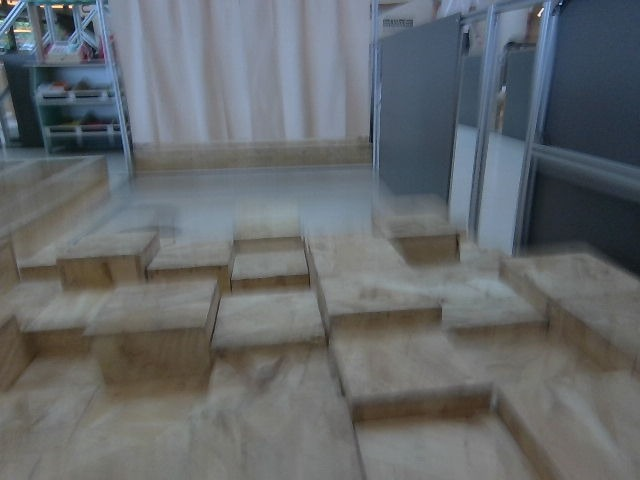curtain: (122, 0, 371, 149)
